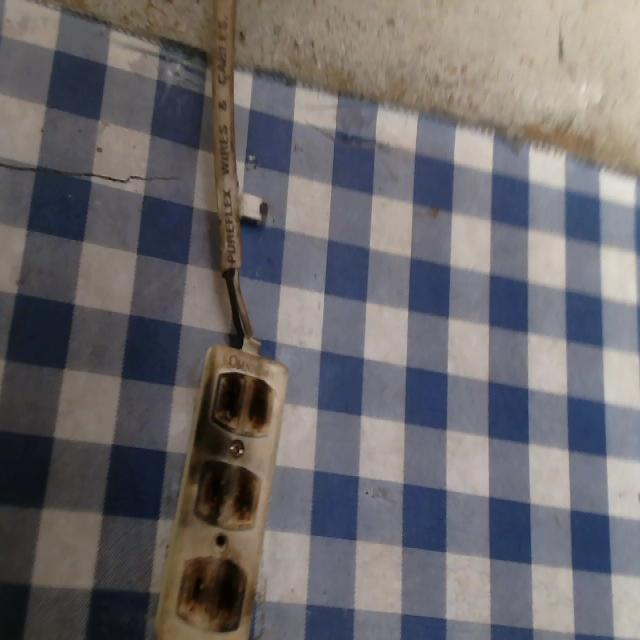-: (190, 452, 272, 539), (171, 551, 257, 628), (201, 367, 280, 441)
